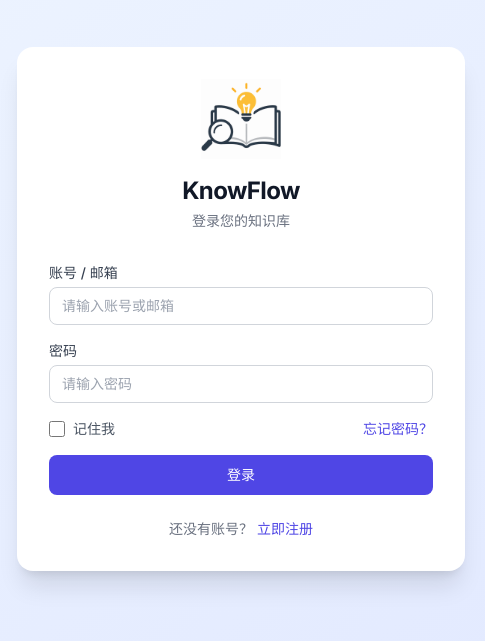
it: LoginPage – form validation › shows an error when submitting with empty password
This screenshot has width=485, height=641.
Type "testuser" into the field labelled "账号 / 邮箱".
click(241, 306); type("testuser")  # box [49, 287, 433, 325]
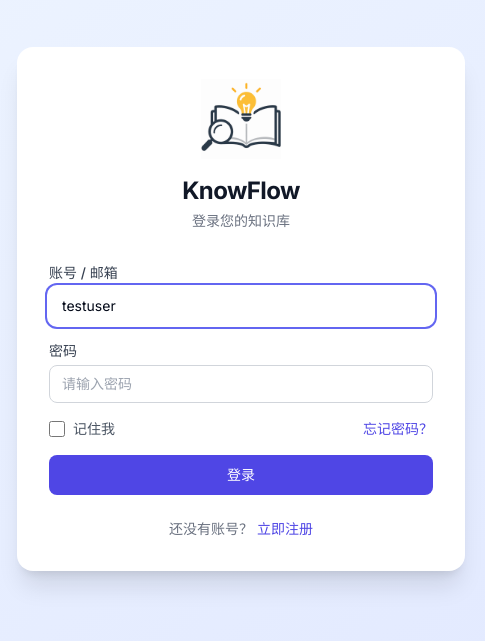
Click the button "登录".
click(241, 475)  # box [49, 455, 433, 495]
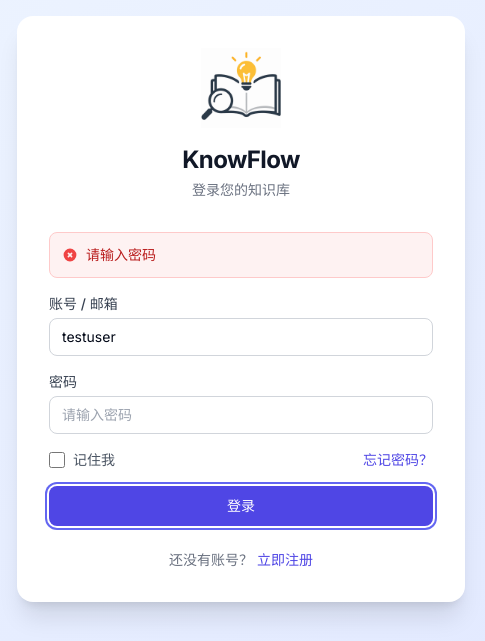
Result: the text "请输入密码" is shown at [86, 245, 156, 265]
